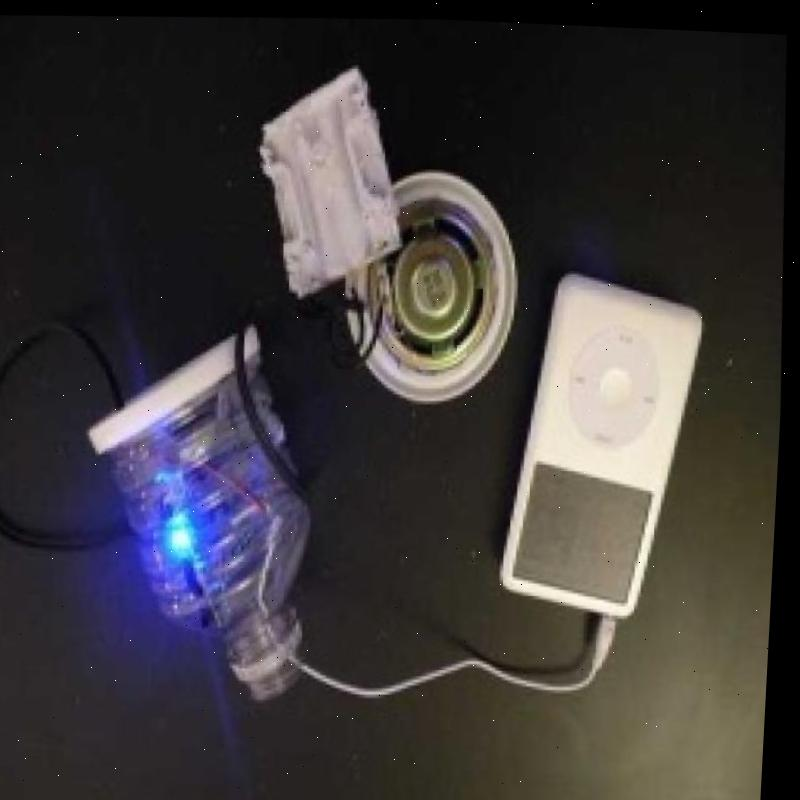botella: (95, 336, 327, 704)
